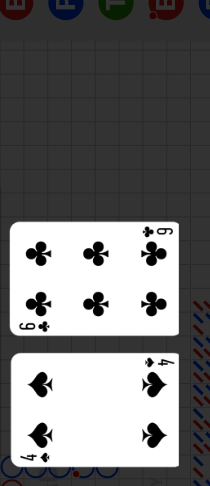4S: (19, 450, 53, 463)
6C: (140, 225, 175, 239)
